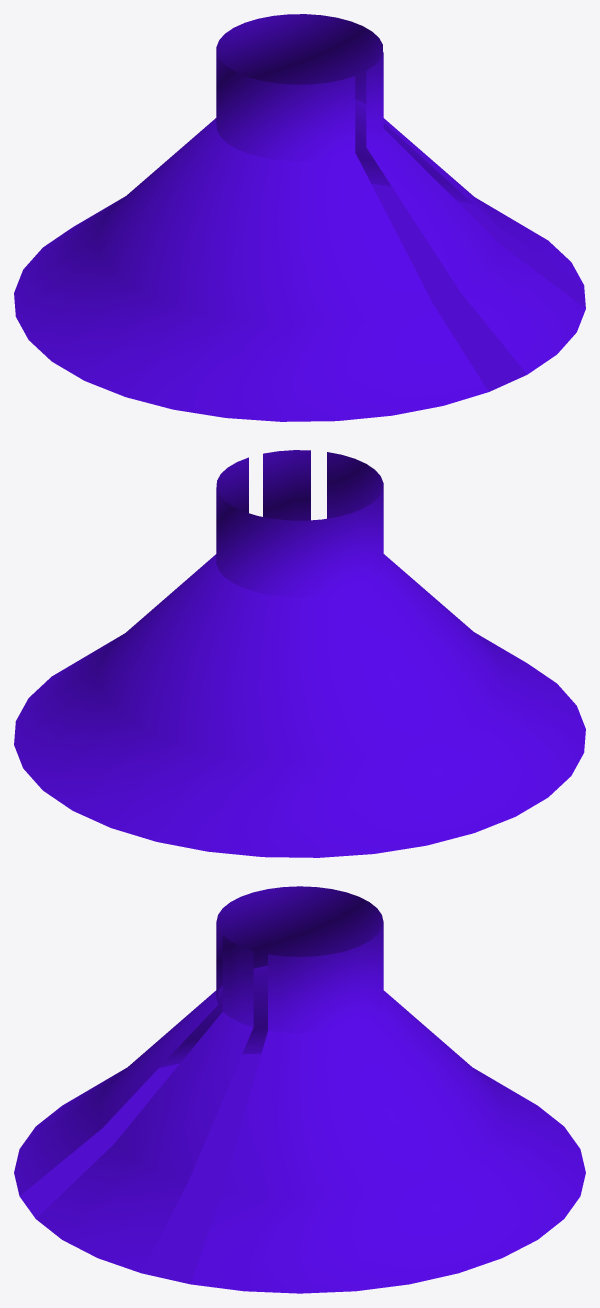
Rendered from ColonyHouse2.fbx.
The picture shows the model from 3 angles, top to bottom: view 1: azimuth 30°, elevation 25°; view 2: azimuth 150°, elevation 25°; view 3: azimuth 270°, elevation 25°; orthographic projection.
Parts seen in each view (by area): view 1: Cone.001; view 2: Cone.001; view 3: Cone.001.
Boxes of the visible parts, x1=… form: Cone.001: x1=14, y1=14, x2=585, y2=421; Cone.001: x1=14, y1=450, x2=585, y2=857; Cone.001: x1=14, y1=886, x2=585, y2=1293.
Bounding box in the file's own units: 200 × 96.88 × 200.
